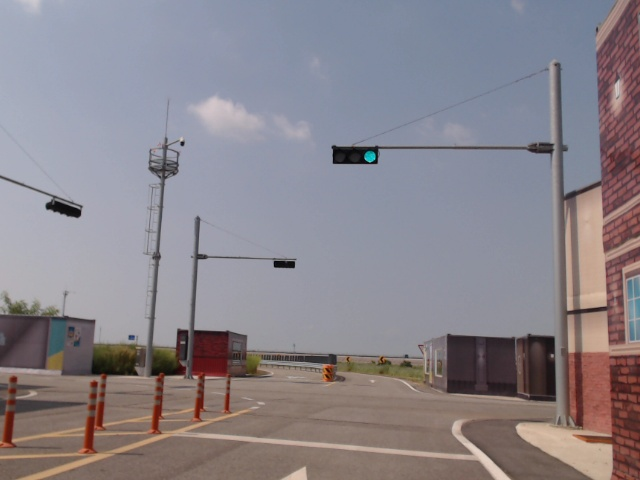green_3: (333, 147, 379, 165)
